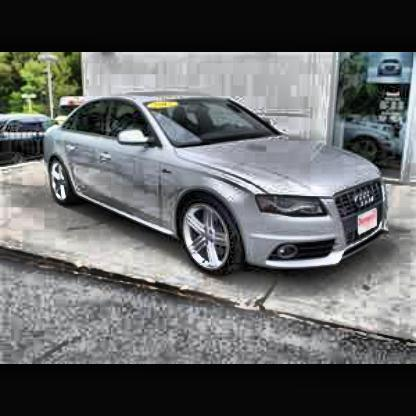Audi S4 Sedan 2012: (43, 93, 392, 280)
